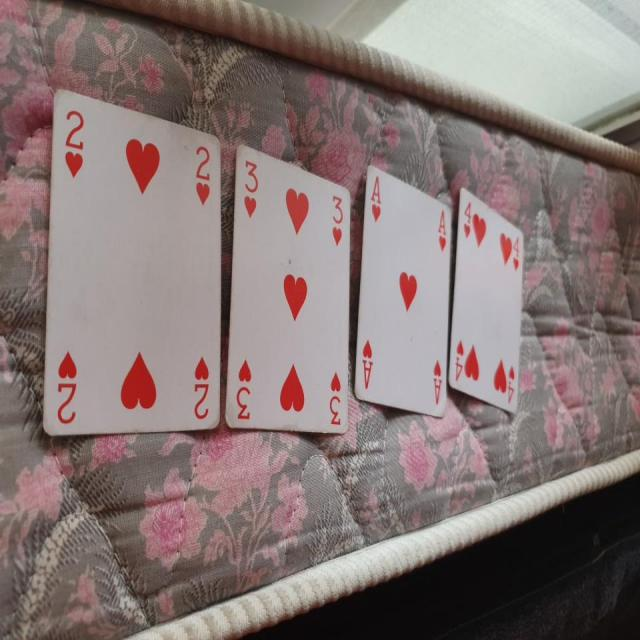2 Hearts: (29, 79, 232, 440)
3 Hearts: (224, 130, 354, 443)
4 Hearts: (448, 187, 527, 421)
A Hearts: (354, 162, 459, 421)
